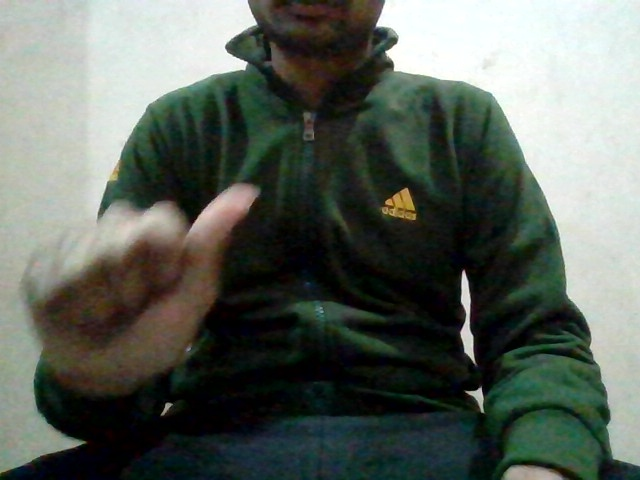A: (6, 179, 274, 396)
